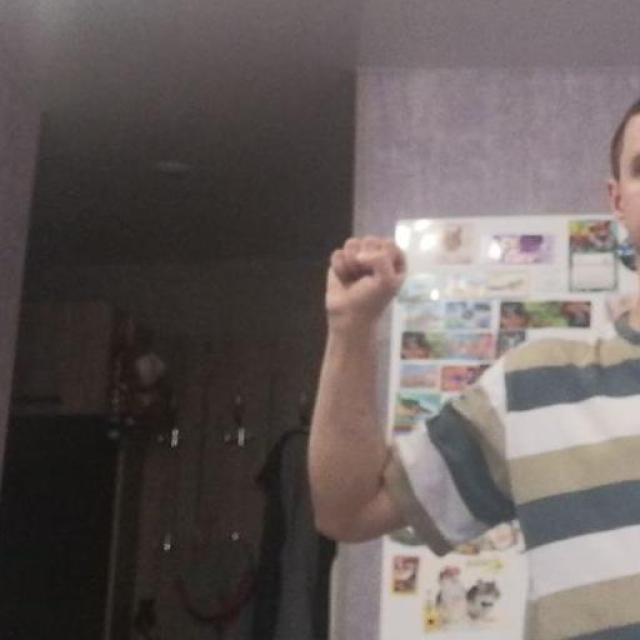hand: (323, 234, 408, 321)
